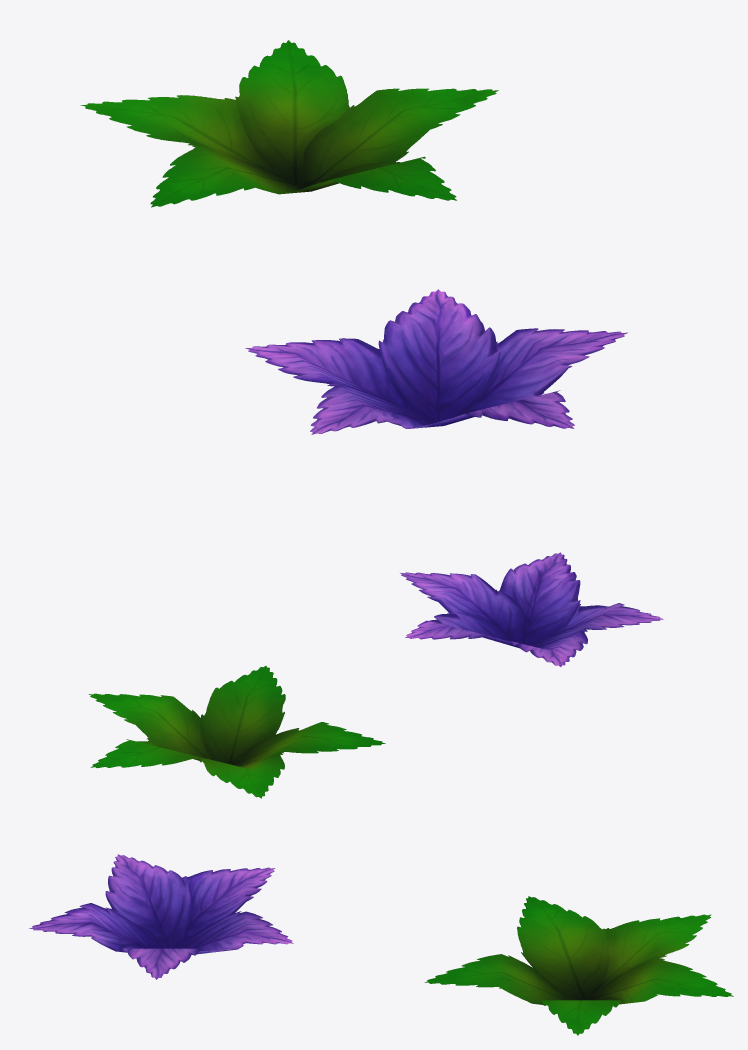
Rendered from flower.FBX.
3 renders of one model, top to bottom at view 1: azimuth 30°, elevation 25°; view 2: azimuth 150°, elevation 25°; view 3: azimuth 270°, elevation 25°, orthographic. The views are drawn at different scales.
Visible parts, largest first — view 1: Plane002, Plane001; view 2: Plane002, Plane001; view 3: Plane002, Plane001.
Boxes of the visible parts, x1,y1,x2,y2 form: Plane002: (80,40,498,207); Plane001: (245,289,627,434); Plane002: (89,665,385,798); Plane001: (400,552,663,666); Plane002: (424,896,733,1035); Plane001: (29,854,293,979).
Size of the model in its own units: 3.83 by 0.4037 by 6.1.
